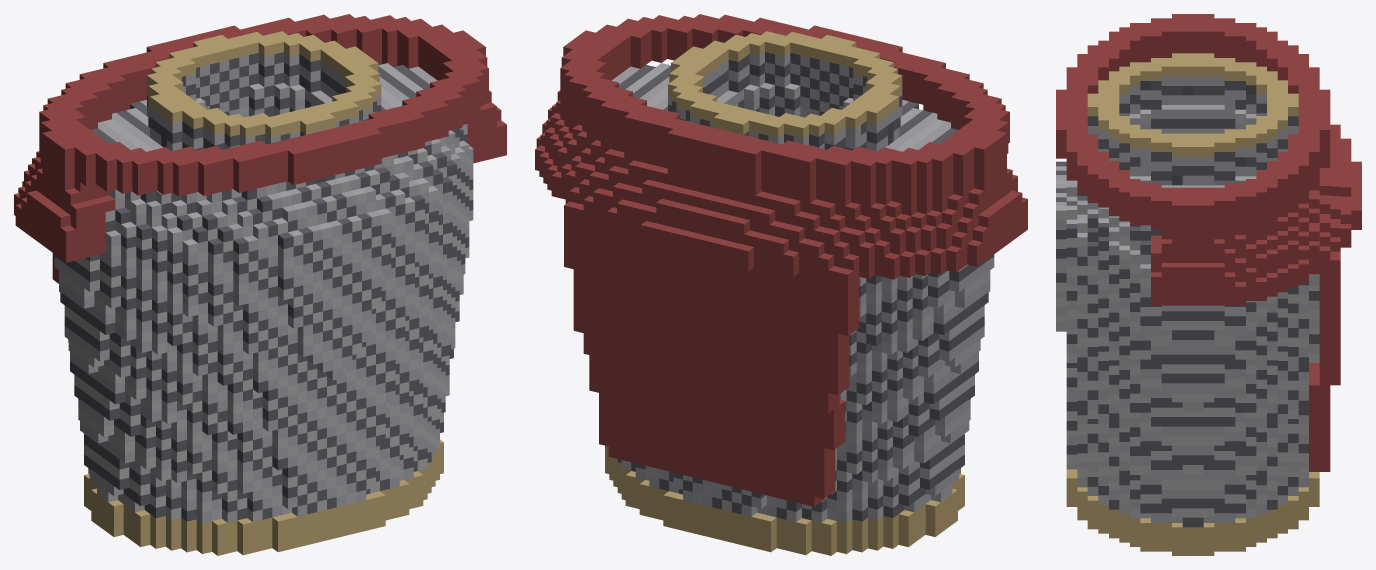
Rendered from chain_rare_chest.glb.
The picture shows the model from 3 angles, left to right: view 1: azimuth 30°, elevation 25°; view 2: azimuth 150°, elevation 25°; view 3: azimuth 270°, elevation 25°; orthographic projection. The views are drawn at different scales.
Parts seen in each view (by area): view 1: chain_rare_chest; view 2: chain_rare_chest; view 3: chain_rare_chest.
Boxes of the visible parts, x1=… form: chain_rare_chest: x1=14, y1=14, x2=506, y2=555; chain_rare_chest: x1=535, y1=14, x2=1027, y2=555; chain_rare_chest: x1=1056, y1=14, x2=1361, y2=555.
Bounding box in the file's own units: 0.54 × 0.48 × 0.348.
